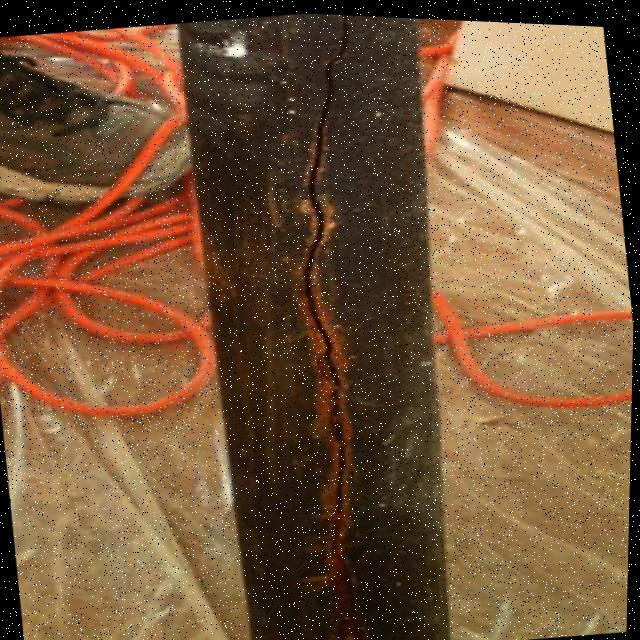crack: (296, 15, 371, 640)
